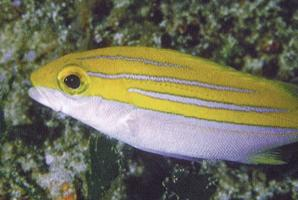Lutjanidae -Snappers-: (27, 39, 298, 170)
